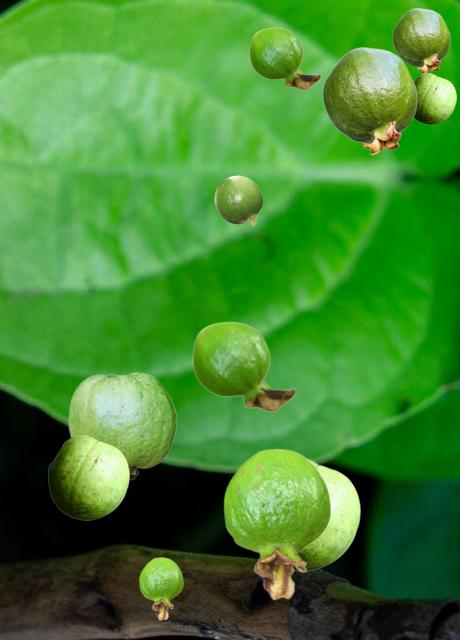guava: (223, 448, 330, 599), (68, 372, 176, 480), (322, 47, 416, 154), (192, 321, 295, 411), (294, 458, 359, 570), (48, 435, 128, 519), (249, 27, 320, 89), (392, 8, 449, 73), (139, 557, 182, 619), (214, 175, 262, 225), (414, 73, 455, 123)
